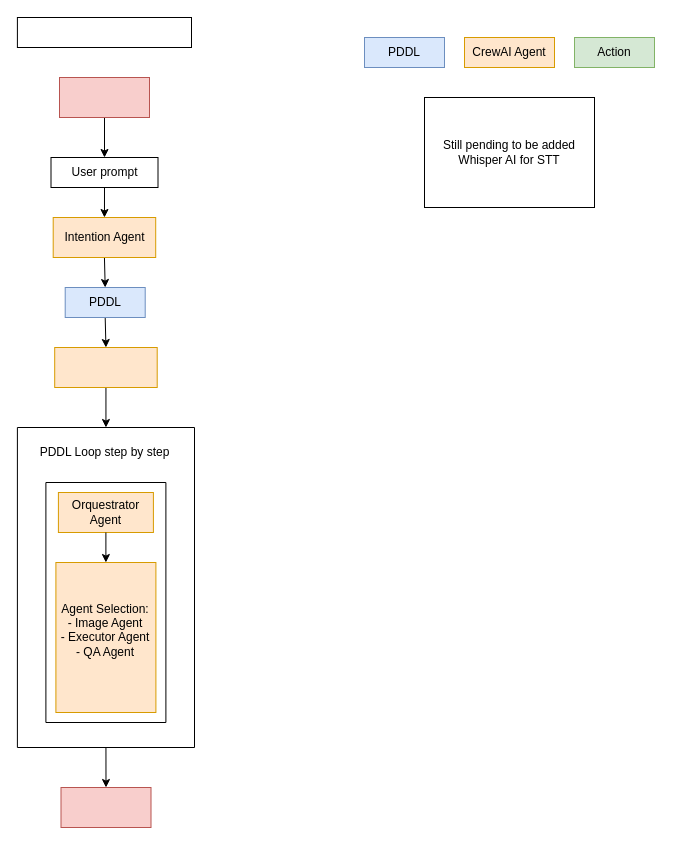
The diagram is 673 pixels wide and 845 high, and some of its shapes have lost their labels. Each missing label, with the centre of its shape:
END: (105,807)
Main Workflow with CrewAI: (104,32)
START: (104,97)
Translator Agent: (105,367)
